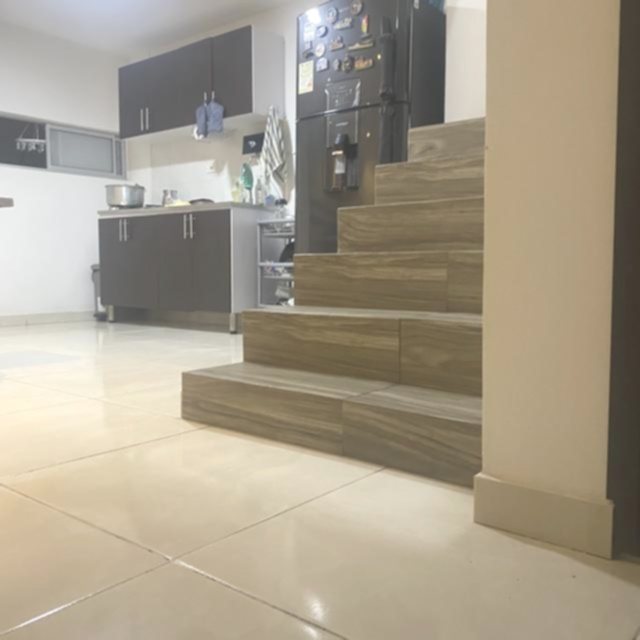obstacle: (79, 189, 275, 328)
stair: (175, 117, 537, 508)
